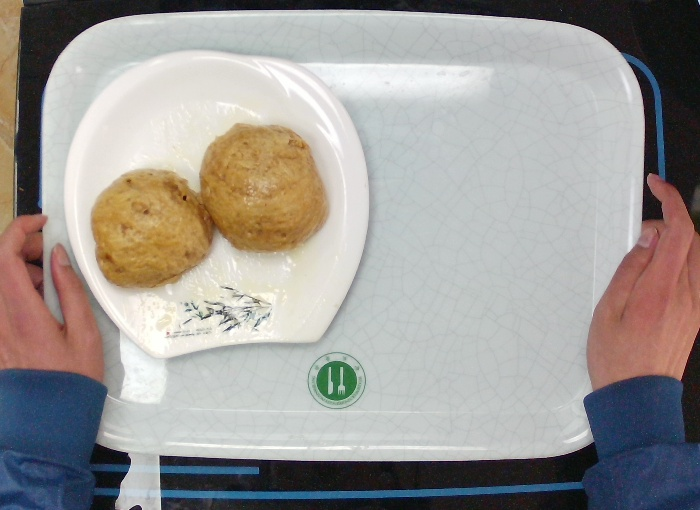JYsf-Mian_Pan: (58, 45, 374, 364)
